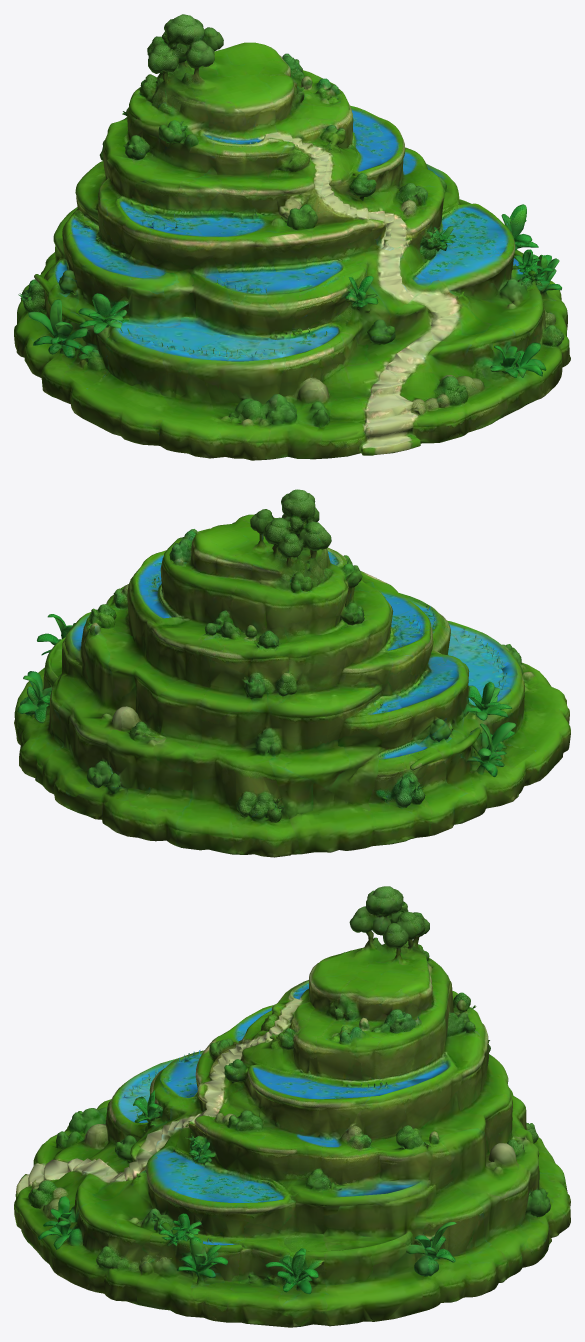
3 views of the same model, one above another, from view 1: azimuth 30°, elevation 25°; view 2: azimuth 150°, elevation 25°; view 3: azimuth 270°, elevation 25° (orthographic). The views are drawn at different scales.
Bounding box in the file's own units: 1.86 × 1.12 × 1.9.
Materials: 1 (1 with a texture image).
